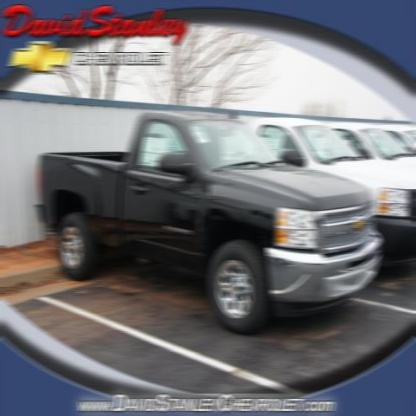Vehicle: (33, 105, 382, 335)
